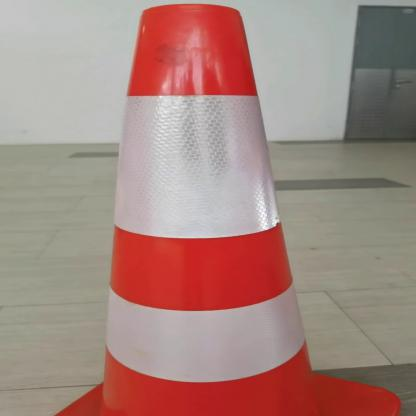cone: (47, 2, 411, 416)
